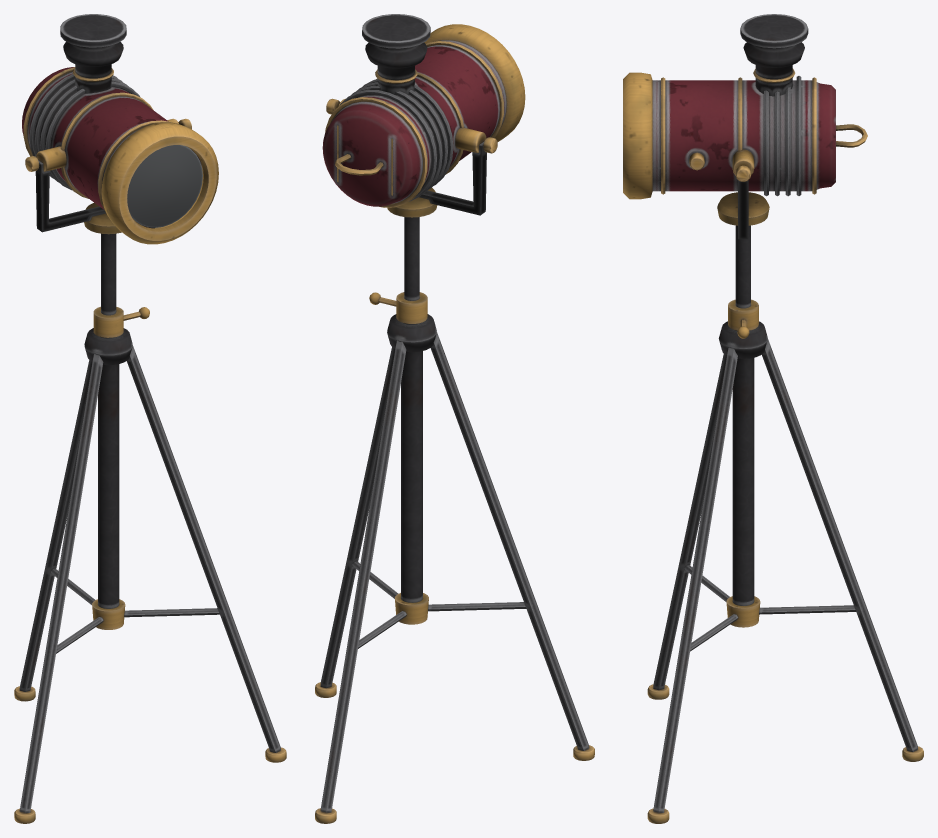
Rendered from StageSpotlight.fbx.
The picture shows the model from 3 angles, left to right: view 1: azimuth 30°, elevation 25°; view 2: azimuth 150°, elevation 25°; view 3: azimuth 270°, elevation 25°; orthographic projection. The views are drawn at different scales.
Parts seen in each view (by area): view 1: StageSpotlight_Main, StageSpotlight_Glass; view 2: StageSpotlight_Main; view 3: StageSpotlight_Main.
Part boxes in pixels (box(x1,y1,x2,y2)): StageSpotlight_Main: box(14, 14, 286, 823); StageSpotlight_Glass: box(127, 145, 202, 227); StageSpotlight_Main: box(315, 14, 594, 823); StageSpotlight_Main: box(623, 14, 923, 823).
Bounding box in the file's own units: 204 × 524 × 195.
